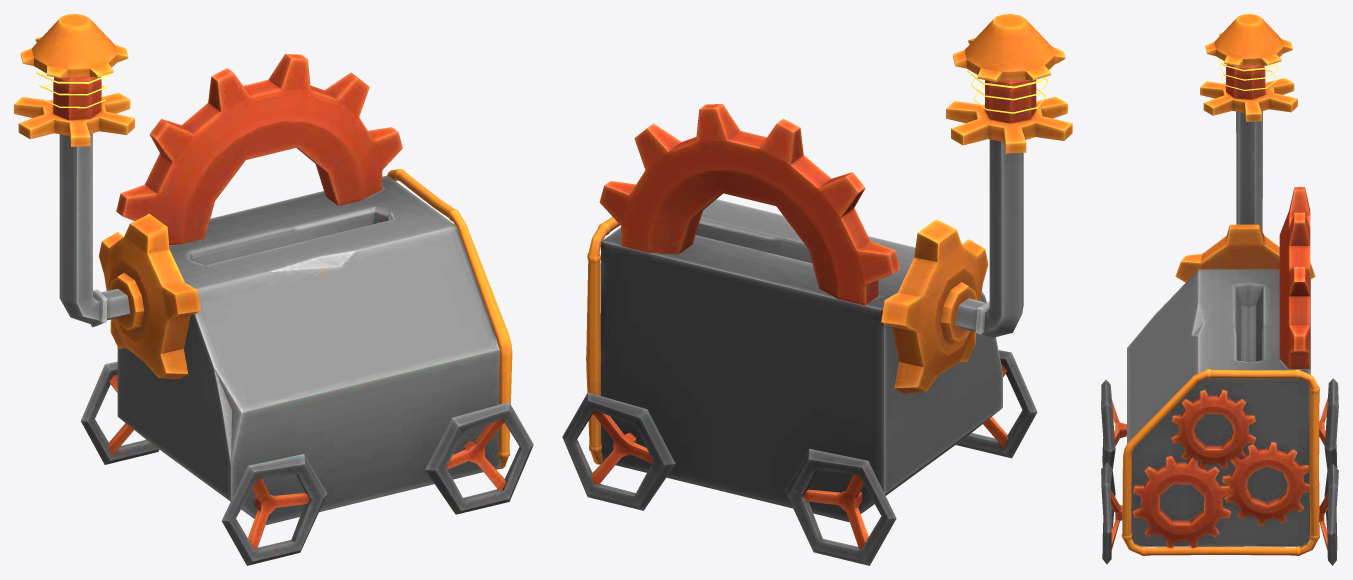
The model's file is obj_terminal_base.gltf.
The picture shows the model from 3 angles, left to right: view 1: azimuth 30°, elevation 25°; view 2: azimuth 150°, elevation 25°; view 3: azimuth 270°, elevation 25°; orthographic projection. The views are drawn at different scales.
Parts seen in each view (by area): view 1: obj_terminal_base; view 2: obj_terminal_base; view 3: obj_terminal_base.
Part boxes in pixels (x1,y1,x2,y2): obj_terminal_base: [14, 14, 533, 565]; obj_terminal_base: [562, 14, 1072, 565]; obj_terminal_base: [1101, 14, 1338, 565].
Size of what is drawn, in the model's own units: 2.14 by 2.38 by 1.26.
Materials: 2 (1 with a texture image).
